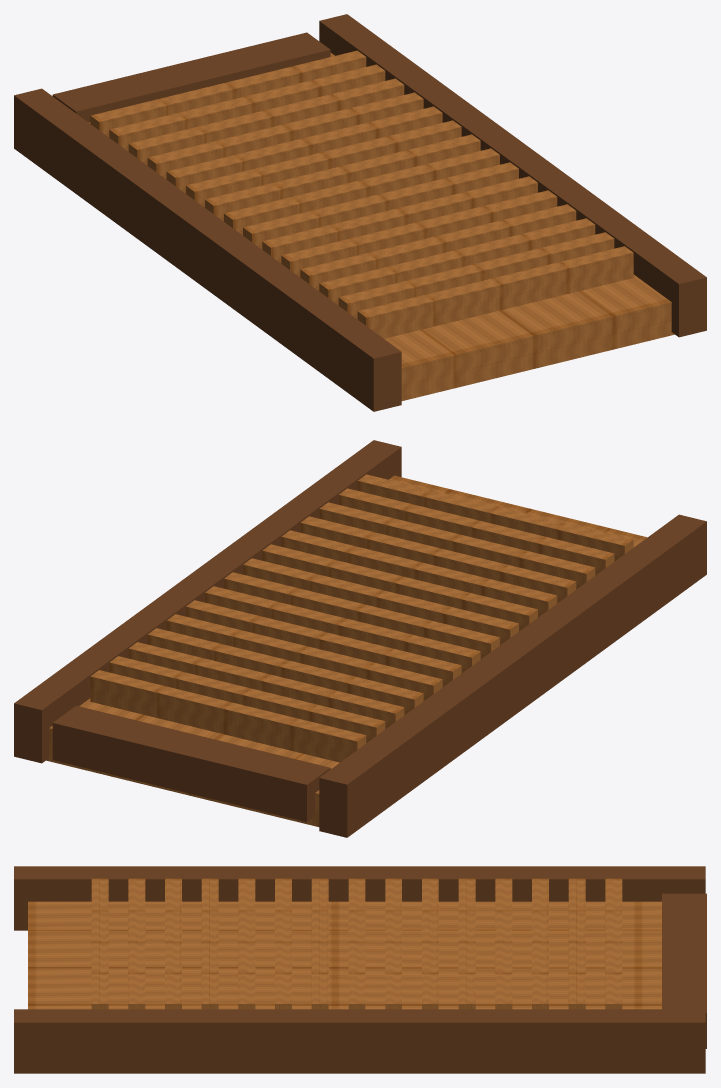
File: washboard.glb
3 renders of one model, top to bottom at view 1: azimuth 30°, elevation 25°; view 2: azimuth 150°, elevation 25°; view 3: azimuth 270°, elevation 25°, orthographic. The views are drawn at different scales.
Visible parts, largest first — view 1: 搓衣凸棱 (×15), 搓衣板木边 (×2), 搓衣板底板, 搓衣板提手; view 2: 搓衣凸棱 (×15), 搓衣板木边 (×2), 搓衣板提手, 搓衣板底板; view 3: 搓衣板木边 (×2), 搓衣板底板, 搓衣凸棱 (×15), 搓衣板提手.
Boxes of the visible parts, x1,y1,x2,y2 form: 搓衣凸棱 (×15): [90, 50, 633, 338]; 搓衣板木边 (×2): [14, 14, 706, 411]; 搓衣板底板: [89, 53, 674, 400]; 搓衣板提手: [52, 32, 330, 122]; 搓衣凸棱 (×15): [90, 474, 633, 762]; 搓衣板木边 (×2): [14, 440, 706, 837]; 搓衣板提手: [52, 705, 330, 821]; 搓衣板底板: [46, 475, 647, 826]; 搓衣板木边 (×2): [14, 866, 705, 1073]; 搓衣板底板: [28, 901, 661, 1009]; 搓衣凸棱 (×15): [91, 878, 622, 1009]; 搓衣板提手: [662, 893, 706, 1048].
Size of the model in its own units: 0.262 by 0.045 by 0.491.
Materials: 2 (1 with a texture image).
